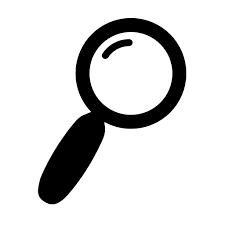searchIcon: (36, 15, 188, 208)
